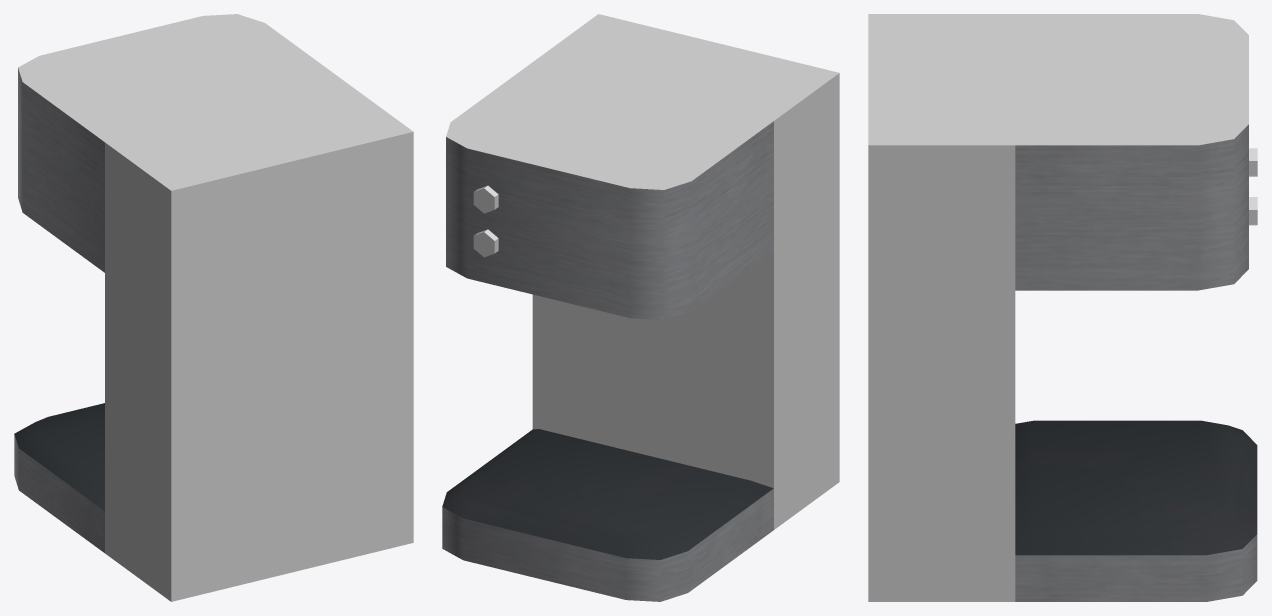
Rendered from Coffee_maker_01.glb.
3 renders of one model, left to right at view 1: azimuth 30°, elevation 25°; view 2: azimuth 150°, elevation 25°; view 3: azimuth 270°, elevation 25°, orthographic. The views are drawn at different scales.
Parts seen in each view (by area): view 1: Coffee_maker_01; view 2: Coffee_maker_01; view 3: Coffee_maker_01.
Part boxes in pixels (x1=…): Coffee_maker_01: x1=14, y1=14, x2=413, y2=601; Coffee_maker_01: x1=442, y1=14, x2=839, y2=601; Coffee_maker_01: x1=868, y1=14, x2=1257, y2=601.
Size of the model in its own units: 0.36 by 0.5835 by 0.4511.
3 materials, 2 textured.
